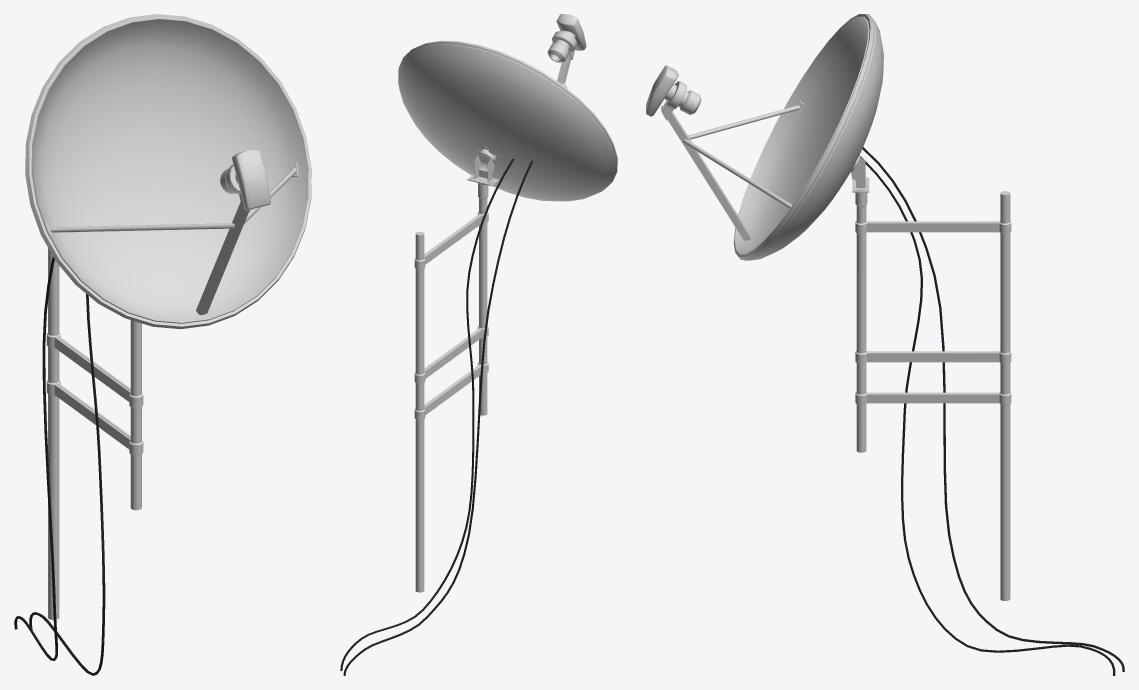
File: KB3D_DMZ_Antenna_A.fbx
3 views of the same model, side by side, from view 1: azimuth 30°, elevation 25°; view 2: azimuth 150°, elevation 25°; view 3: azimuth 270°, elevation 25° (orthographic). The views are drawn at different scales.
Parts seen in each view (by area): view 1: KB3D_DMZ_Antenna_A_Main; view 2: KB3D_DMZ_Antenna_A_Main; view 3: KB3D_DMZ_Antenna_A_Main.
Part boxes in pixels (box(x1,y1,x2,y2)): KB3D_DMZ_Antenna_A_Main: box(14, 14, 311, 675); KB3D_DMZ_Antenna_A_Main: box(340, 14, 617, 675); KB3D_DMZ_Antenna_A_Main: box(646, 14, 1124, 675).
Bounding box in the file's own units: 116 × 290 × 200.
